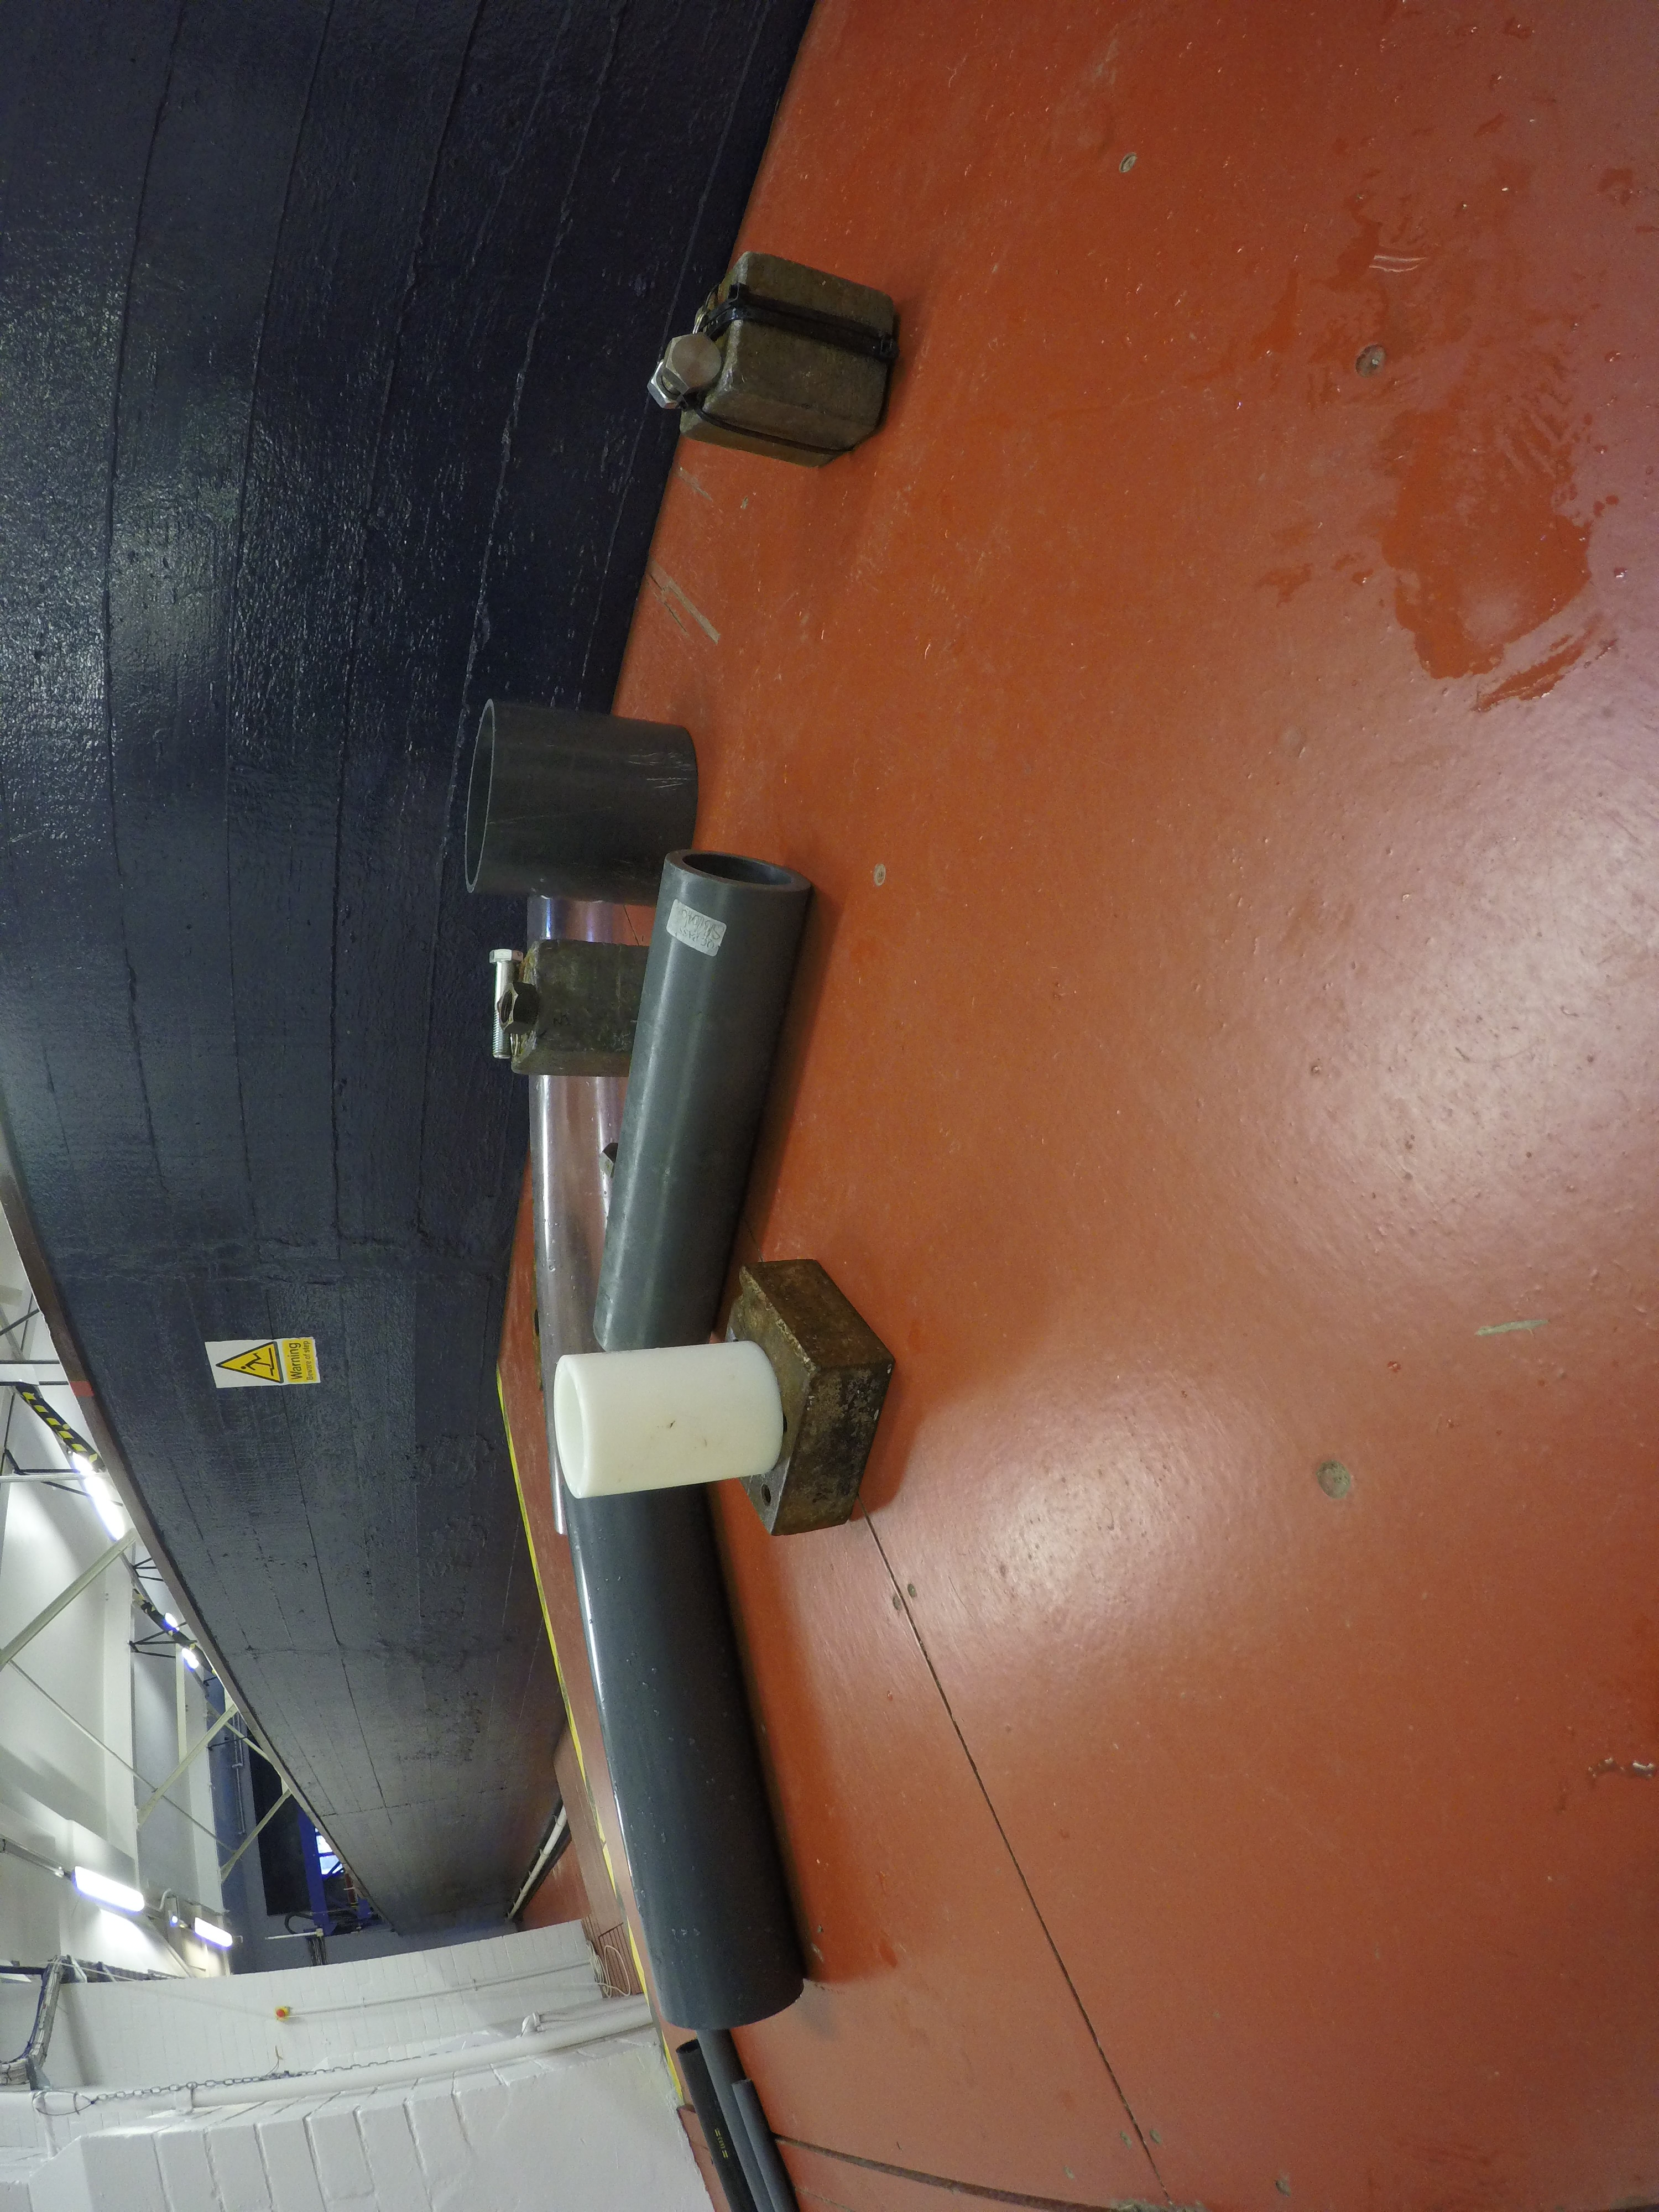bolt: (659, 333, 721, 401), (490, 946, 521, 1062)
flange: (528, 1221, 547, 1395)
lead_block: (727, 1258, 896, 1536), (683, 249, 897, 467), (509, 939, 647, 1078)
nut: (497, 982, 540, 1038), (648, 359, 681, 413), (596, 1143, 622, 1181)
pipe: (561, 1486, 805, 2031), (592, 848, 814, 1352), (464, 697, 699, 907), (526, 1069, 624, 1534), (551, 1339, 786, 1498), (697, 2027, 772, 2212), (678, 2040, 751, 2212), (734, 2076, 798, 2212)
